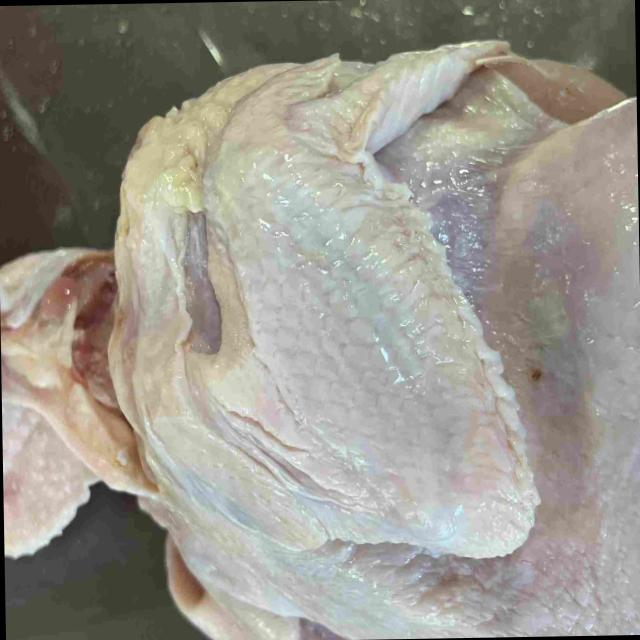back: (211, 502, 640, 640)
leg: (492, 91, 640, 449)
wing: (207, 32, 539, 553), (165, 554, 360, 640)
